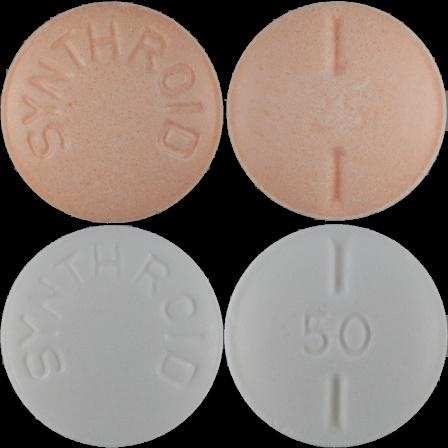0074-4341: (0, 0, 224, 224)
